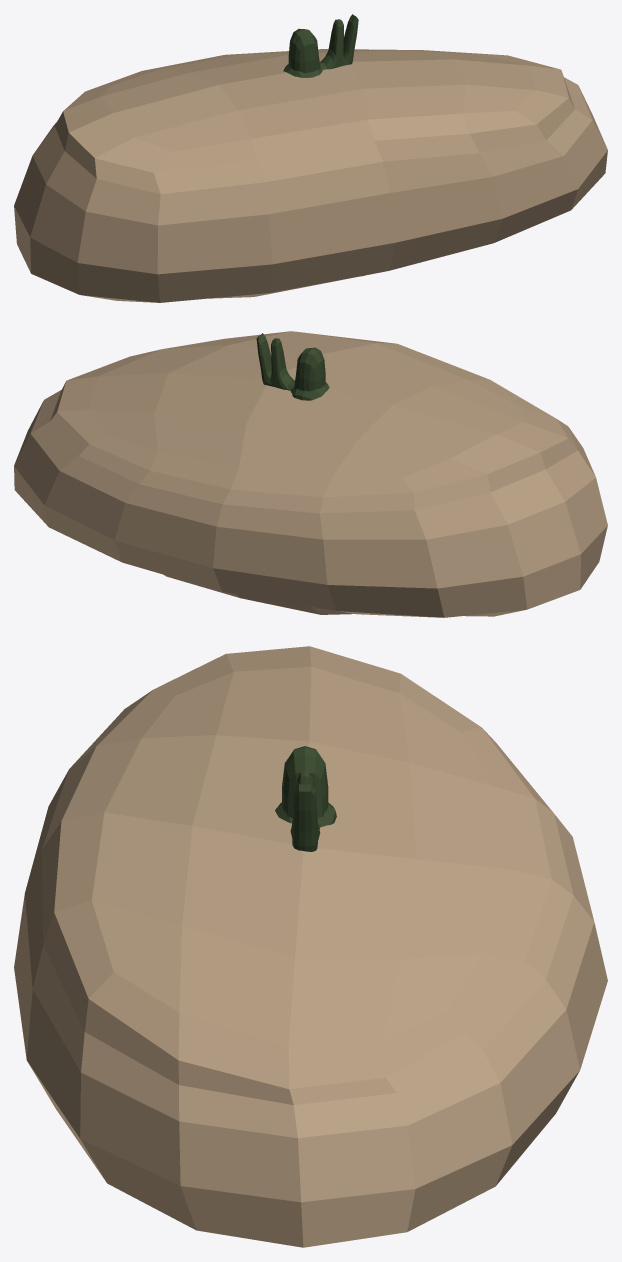
File: DesertKitV1.fbx
The picture shows the model from 3 angles, top to bottom: view 1: azimuth 30°, elevation 25°; view 2: azimuth 150°, elevation 25°; view 3: azimuth 270°, elevation 25°; orthographic projection. The views are drawn at different scales.
Parts seen in each view (by area): view 1: boulder_2, cactus_3; view 2: boulder_2, cactus_3, boulder_3; view 3: boulder_2, cactus_3.
Boxes of the visible parts, left/top/right/bottom form: boulder_2: left=14, top=49, right=607, bottom=302; cactus_3: left=288, top=14, right=358, bottom=73; boulder_2: left=14, top=331, right=607, bottom=617; cactus_3: left=256, top=333, right=325, bottom=391; boulder_3: left=164, top=575, right=353, bottom=614; boulder_2: left=14, top=646, right=607, bottom=1247; cactus_3: left=282, top=746, right=328, bottom=851.
Bounding box in the file's own units: 446 × 167 × 264.
